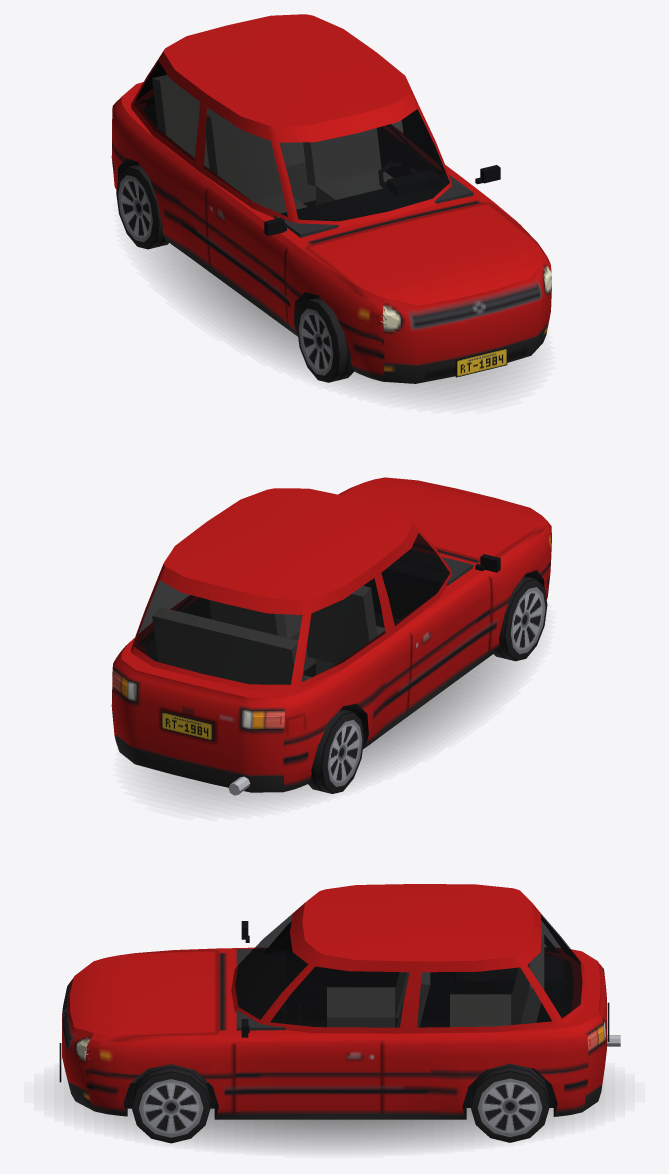
File: rastilho.glb
3 renders of one model, top to bottom at view 1: azimuth 30°, elevation 25°; view 2: azimuth 150°, elevation 25°; view 3: azimuth 270°, elevation 25°, orthographic. The views are drawn at different scales.
Parts seen in each view (by area): view 1: Carroceria, Interior, Capo_malha, Porta_D_malha, Sombra, Roda_DD, Roda_TD, Porta_E_malha; view 2: Carroceria, Tampa_malha, Interior, Porta_D_malha, Capo_malha, Sombra, Roda_TD, Roda_DD; view 3: Carroceria, Interior, Porta_E_malha, Capo_malha, Sombra, Roda_DE, Roda_TE, Tampa_malha.
Part boxes in pixels (x1,y1,x2,y2): Carroceria: (111,14,551,383); Interior: (139,75,473,237); Capo_malha: (307,203,547,305); Porta_D_malha: (206,106,293,322); Sombra: (147,243,527,399); Roda_DD: (296,297,353,382); Roda_TD: (116,164,168,249); Porta_E_malha: (402,82,500,184); Carroceria: (111,480,551,795); Tampa_malha: (131,566,304,770); Interior: (139,550,473,684); Porta_D_malha: (393,523,500,707); Capo_malha: (341,477,547,559); Sombra: (141,654,521,806); Roda_TD: (308,709,364,793); Roda_DD: (494,576,547,661); Carroceria: (59,884,620,1119); Interior: (131,927,572,1082); Porta_E_malha: (234,954,381,1112); Capo_malha: (75,951,217,1041); Sombra: (64,1079,604,1149); Roda_DE: (131,1064,210,1143); Roda_TE: (470,1063,549,1142); Tampa_malha: (520,903,609,1058).
Bounding box in the file's own units: 2.34 × 1.42 × 4.69.
Materials: 12 (6 with a texture image).
